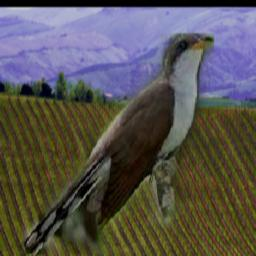Cuckoo: (22, 34, 214, 256)
